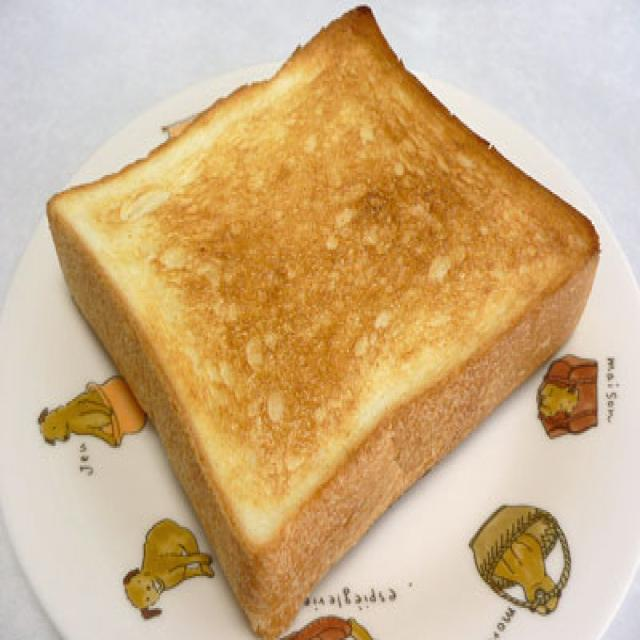面包点心: (48, 17, 586, 623)
